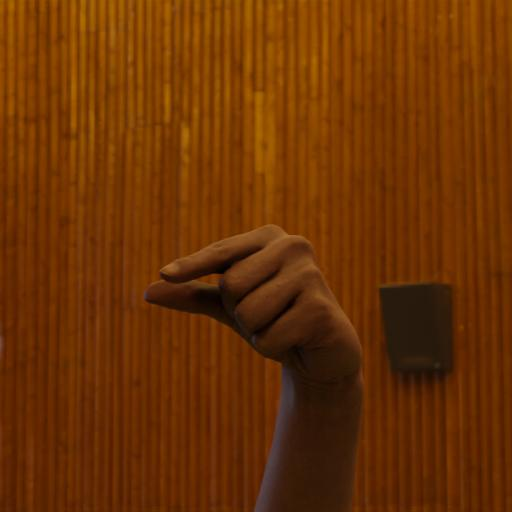G: (134, 216, 368, 378)
